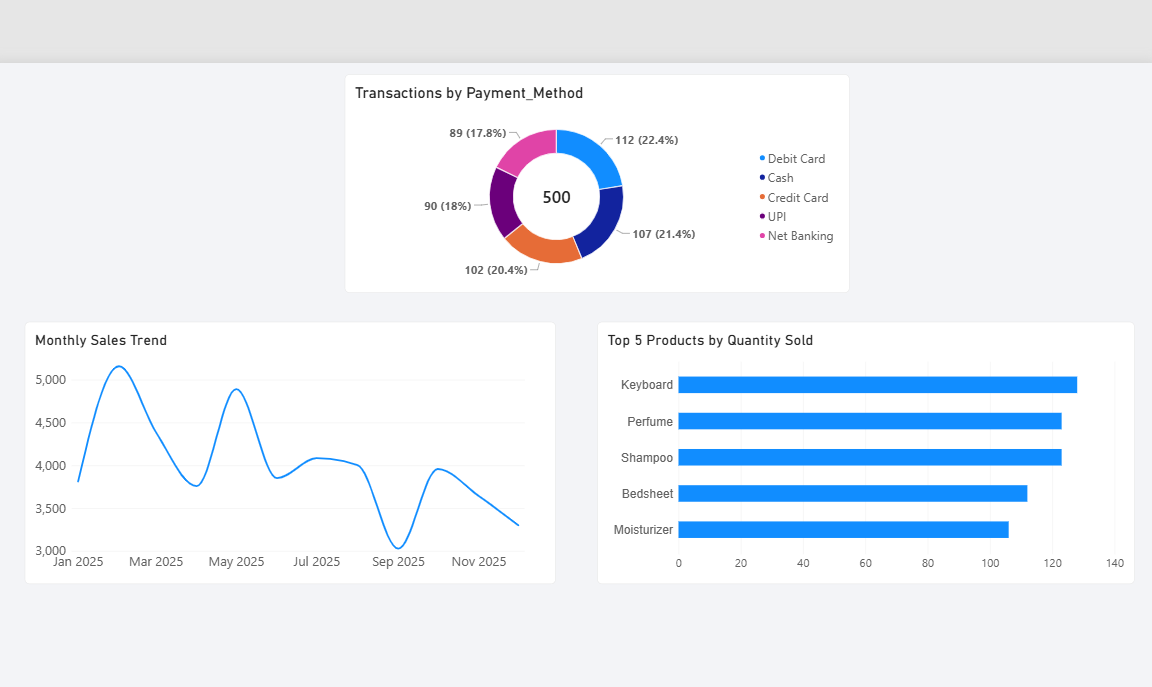

Layout of this report page (visuals, bound fields, positions):
{"tool":"powerbi","page":{"name":"Page 2","canvas":[1920,1080],"ordinal":1},"visuals":[{"type":"lineChart","title":"Monthly Sales Trend","fields":{"Category":["Retail_Sales_Cleaned.Transaction_Date.Variation.Date Hierarchy.Year","Retail_Sales_Cleaned.Transaction_Date.Variation.Date Hierarchy.Month"],"Y":["Sum(Retail_Sales_Cleaned.Total_Amount)"]},"box":[55.6,426.1,874.8,432.2],"z":0},{"type":"clusteredBarChart","title":"Top 5 Products by Quantity Sold","fields":{"Category":["Retail_Sales_Cleaned.Product_Name"],"Y":["Sum(Retail_Sales_Cleaned.Quantity)"]},"box":[998.3,426.1,885.1,432.2],"z":1},{"type":"donutChart","title":"Transactions by Payment_Method","fields":{"Category":["Retail_Sales_Cleaned.Payment_Method"],"Y":["CountNonNull(Retail_Sales_Cleaned.Transaction_ID)"]},"box":[582.5,18.5,831.6,360.2],"z":2}]}

Visuals, with their boxes on the page's 1920x1080 design canvas (x1, y1, x2, y2). These are canvas units, not pixel positions in the 1152x687 screenshot, which may show the page scaled, cropped or inside an application window:
"Monthly Sales Trend" lineChart: Rect(56, 426, 930, 858)
"Top 5 Products by Quantity Sold" clusteredBarChart: Rect(998, 426, 1883, 858)
"Transactions by Payment_Method" donutChart: Rect(582, 18, 1414, 379)
